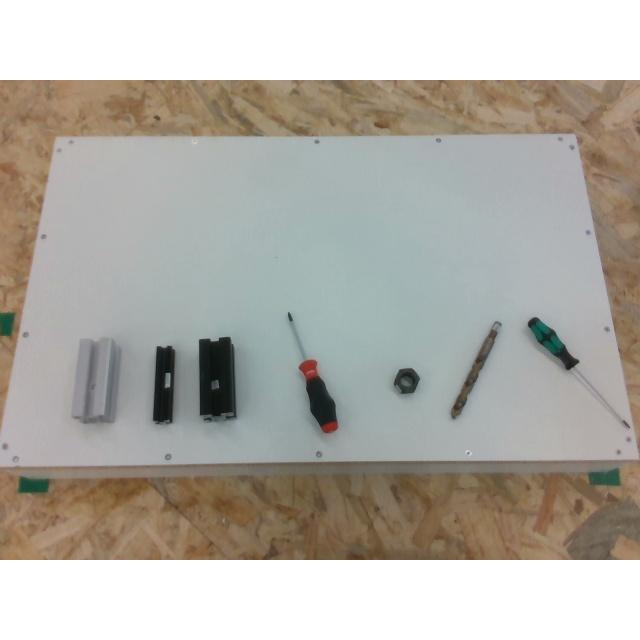Drill: (449, 321, 498, 417)
F20_20_B: (153, 346, 174, 422)
M20: (393, 368, 419, 392)
S40_40_B: (200, 336, 237, 419)
S40_40_G: (71, 337, 117, 421)
Screwdriver: (528, 318, 630, 430)
